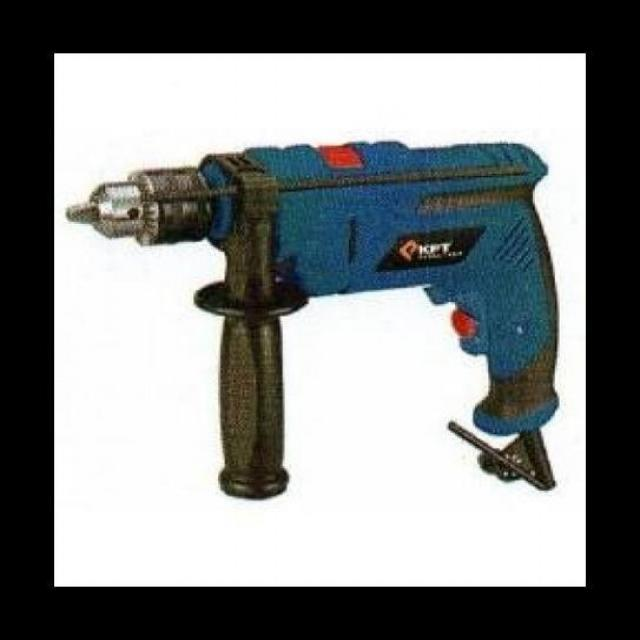drill: (66, 142, 560, 500)
